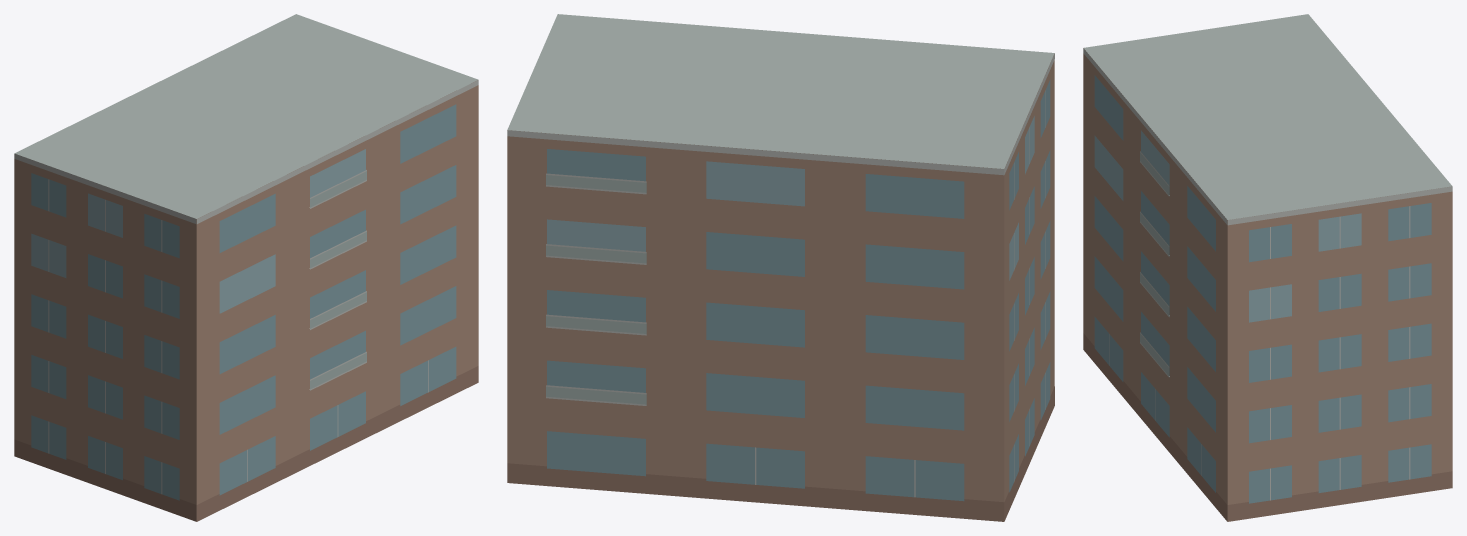
The model's file is survey-upis-32709115.glb.
3 renders of one model, left to right at view 1: azimuth 30°, elevation 25°; view 2: azimuth 150°, elevation 25°; view 3: azimuth 270°, elevation 25°, orthographic. The views are drawn at different scales.
Parts seen in each view (by area): view 1: survey-upis-32709115.tmp; view 2: survey-upis-32709115.tmp; view 3: survey-upis-32709115.tmp.
Boxes of the visible parts, x1,y1,x2,y2 form: survey-upis-32709115.tmp: (14, 14, 478, 521); survey-upis-32709115.tmp: (507, 14, 1054, 521); survey-upis-32709115.tmp: (1083, 14, 1452, 521).
Bounding box in the file's own units: 20.37 × 13.9 × 15.42.
